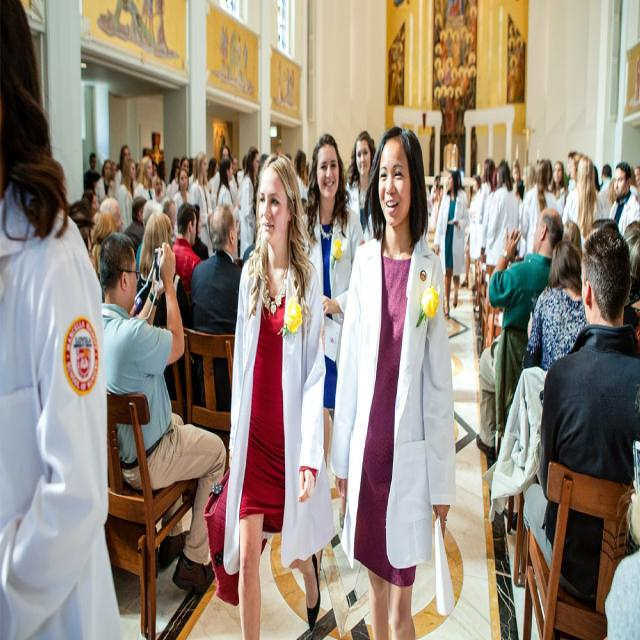body: (0, 0, 125, 640), (325, 120, 460, 639), (202, 152, 338, 640), (98, 230, 228, 595), (521, 218, 640, 604), (299, 130, 367, 533), (501, 237, 591, 534), (475, 203, 567, 463), (188, 200, 244, 435), (135, 209, 195, 405), (605, 378, 640, 639), (62, 180, 148, 284), (148, 148, 219, 260), (482, 157, 520, 338), (431, 167, 470, 323), (560, 153, 606, 253), (546, 148, 586, 258), (519, 158, 564, 255), (342, 128, 378, 243), (508, 156, 540, 260), (186, 150, 216, 259), (592, 155, 640, 222), (171, 200, 203, 299), (459, 174, 482, 291), (607, 160, 640, 239), (238, 144, 260, 261), (621, 222, 640, 351), (210, 142, 239, 209), (479, 168, 498, 262), (424, 165, 447, 241), (282, 144, 312, 200), (116, 157, 136, 236), (476, 158, 496, 228), (131, 153, 158, 204), (173, 166, 191, 240), (252, 147, 270, 215), (455, 160, 475, 214), (216, 156, 236, 209), (114, 143, 131, 200), (96, 159, 114, 204), (83, 152, 101, 192), (226, 151, 248, 177), (106, 153, 121, 180), (133, 154, 142, 174)
